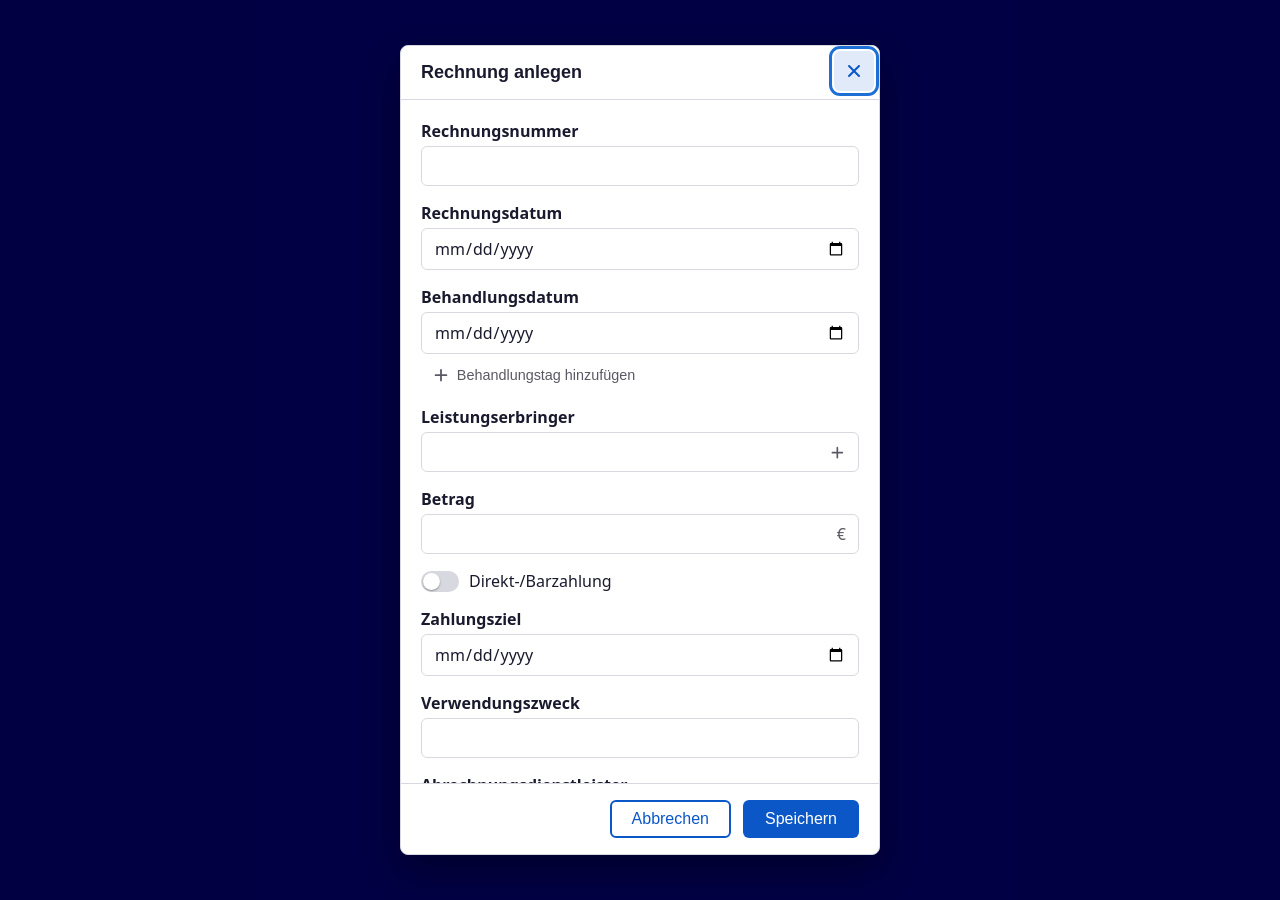
Test: InvoiceFormDialog create form › holds the further treatment days behind a quiet action, without a group
The image size is (1280, 900).
Click the button "Behandlungstag hinzufügen" at (533, 375), box [421,360,646,390]
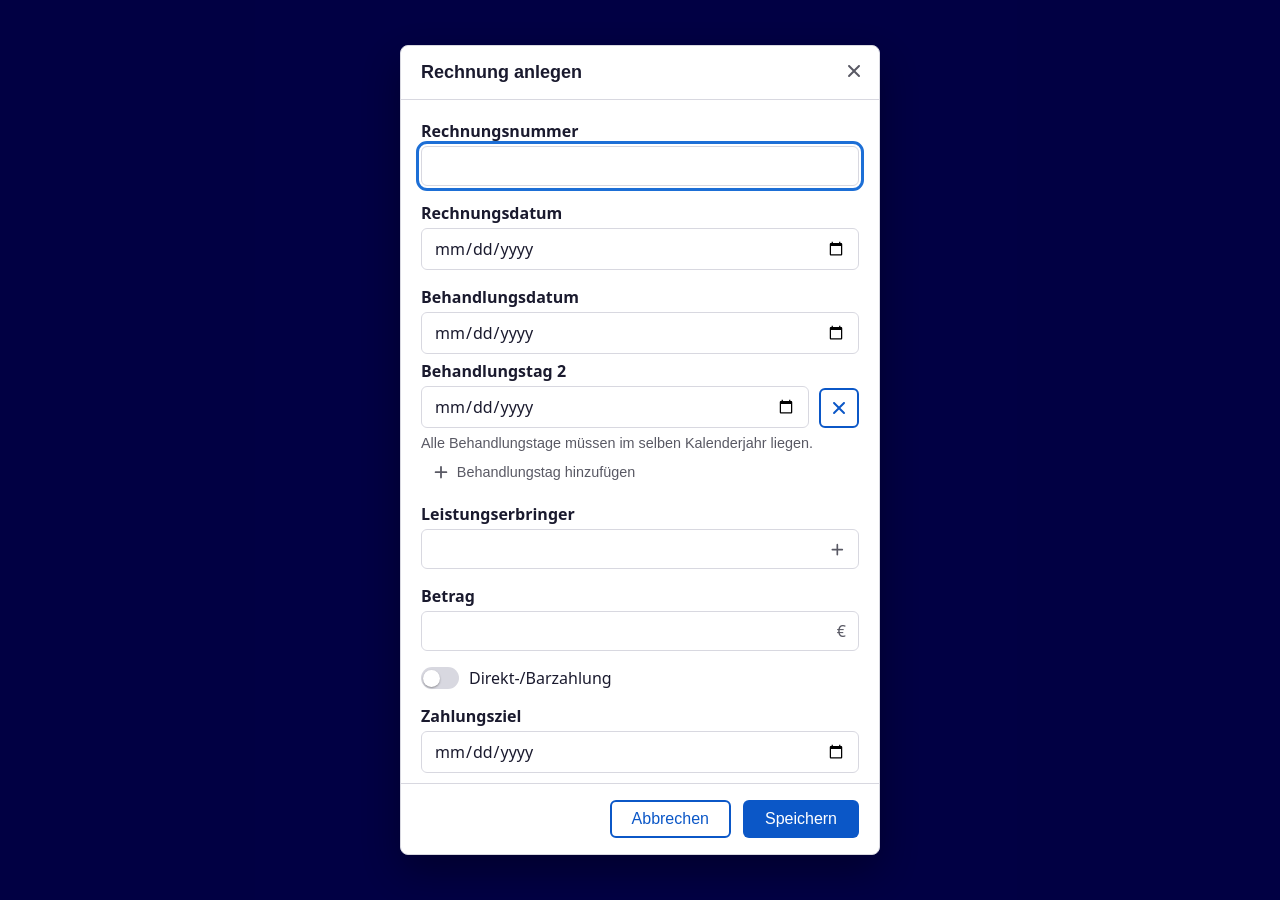
Check: the number of elements with class "eu-form__day" is 1, box [421,360,859,428]
Check: the text with class "eu-form__hint" shows "Kalenderjahr", box [421,435,813,451]
